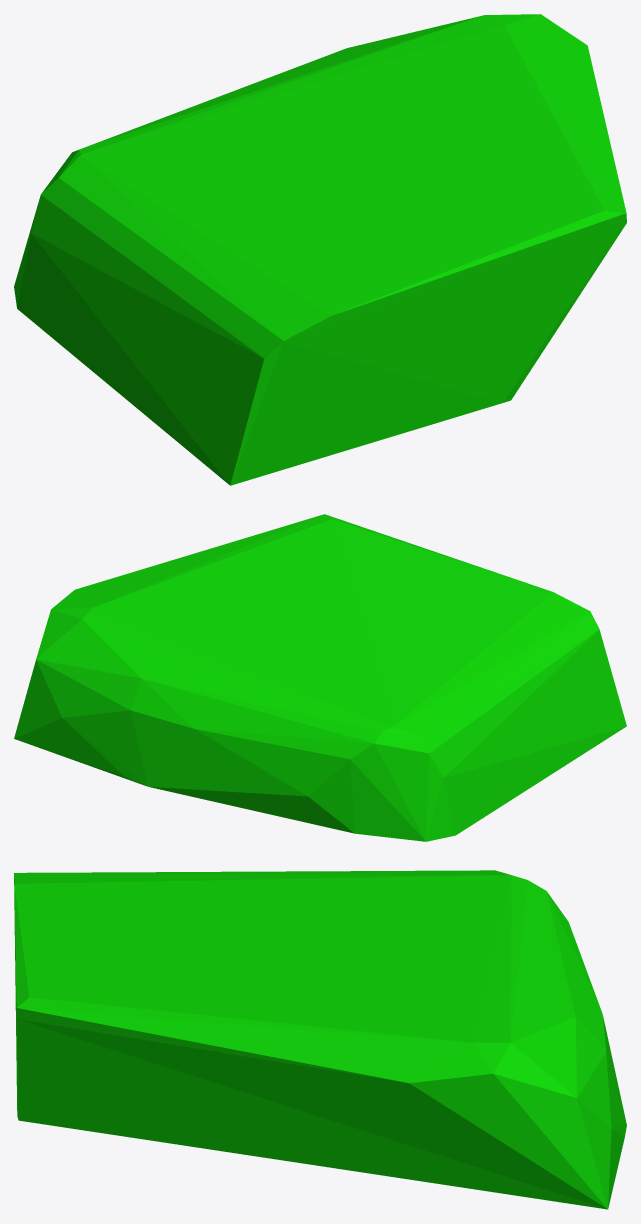
The model's file is shoulder-roll-housing-mirror_convex_piece_001.obj.
3 views of the same model, one above another, from view 1: azimuth 30°, elevation 25°; view 2: azimuth 150°, elevation 25°; view 3: azimuth 270°, elevation 25° (orthographic). The views are drawn at different scales.
Bounding box in the file's own units: 0.0972 × 0.0327 × 0.0888.
